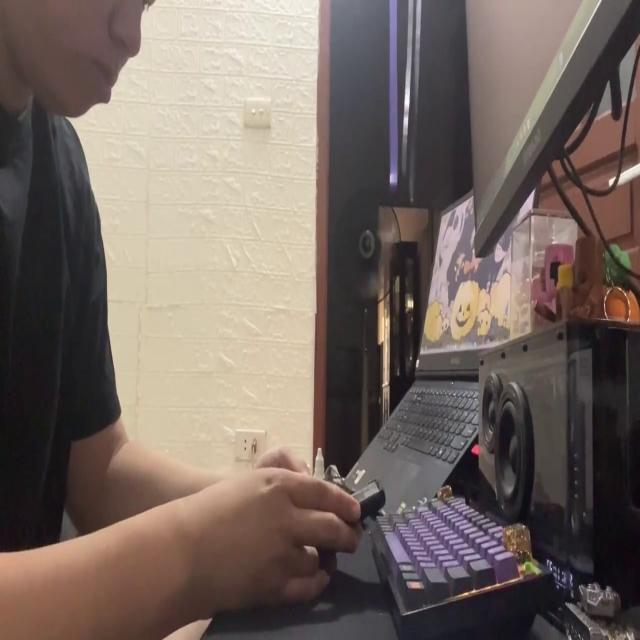laptop: (338, 180, 541, 526), (460, 3, 640, 254)
phone: (338, 471, 386, 521)
student: (0, 0, 363, 640)
